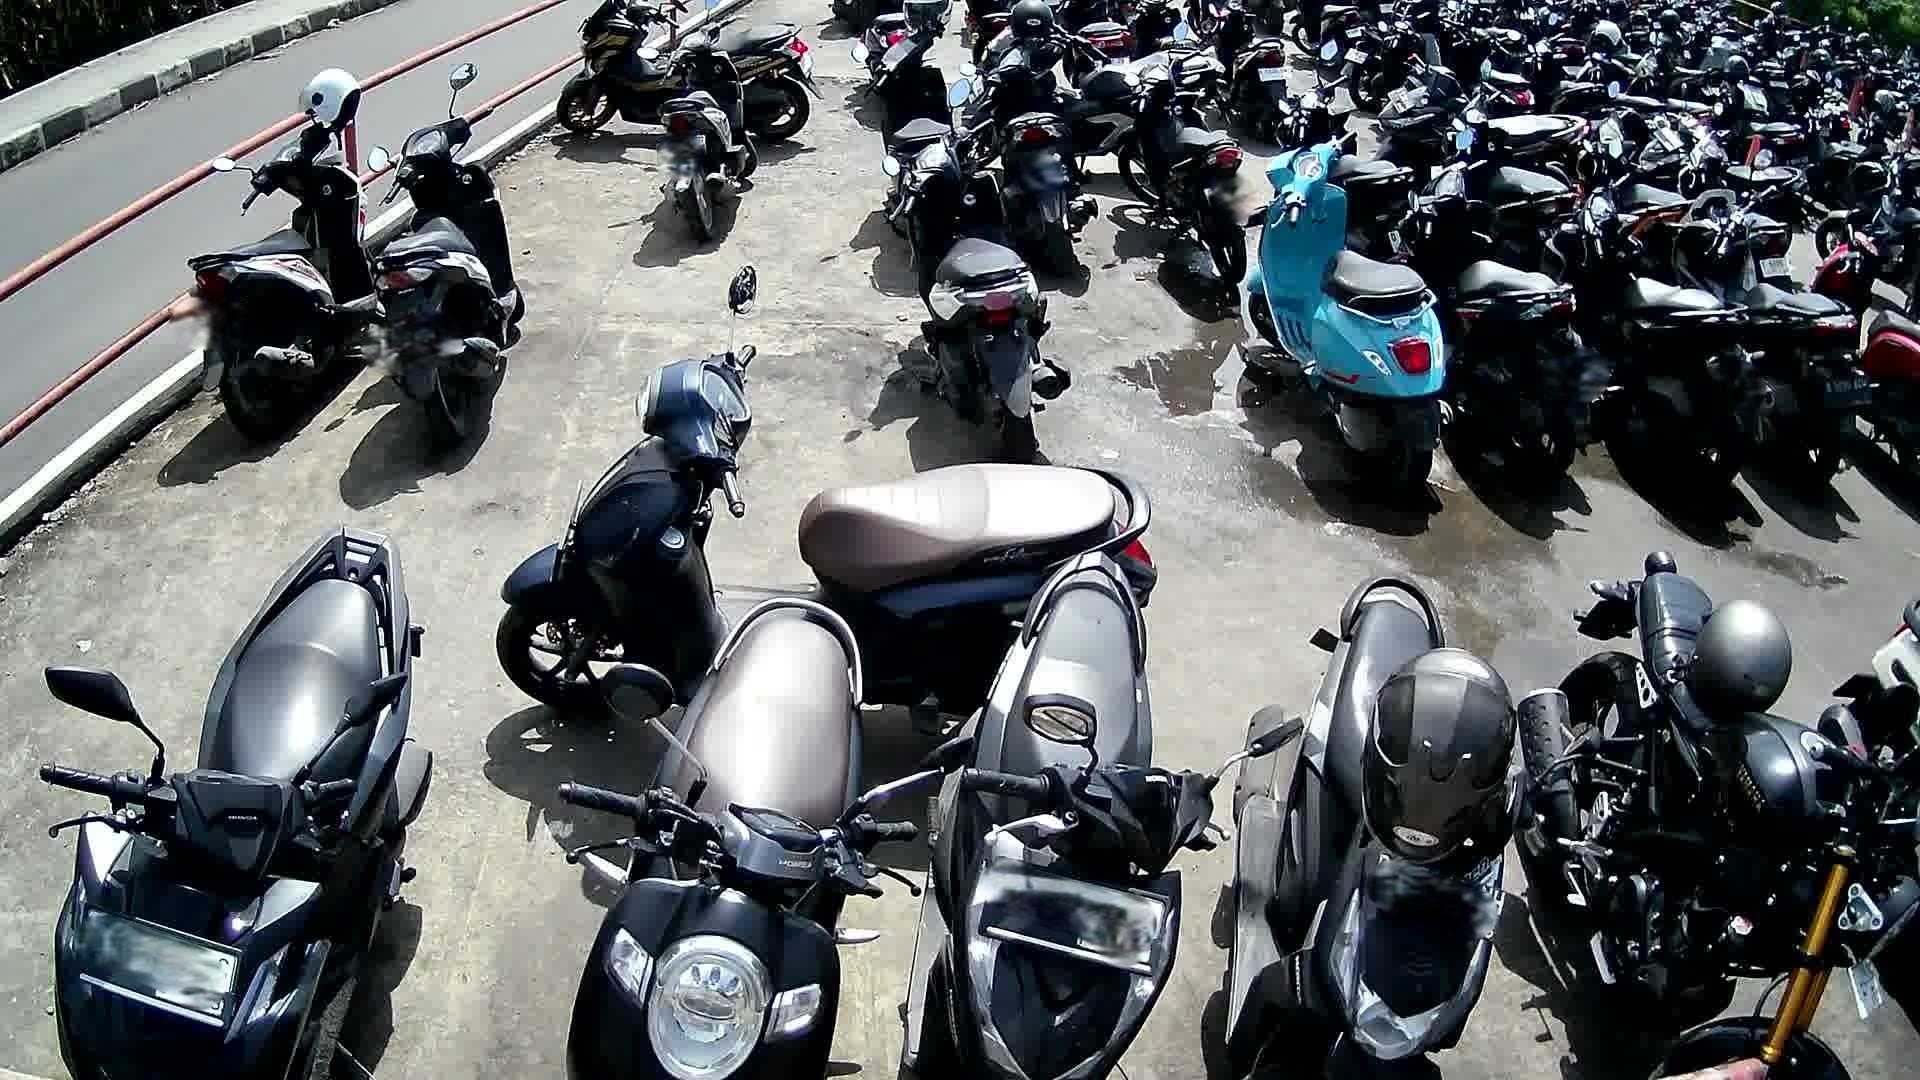motorcycle: (493, 264, 1159, 719), (37, 526, 434, 1080), (1516, 549, 1920, 1079), (901, 554, 1261, 1080), (558, 599, 932, 1080), (1221, 572, 1544, 1080), (1244, 133, 1455, 509), (1387, 131, 1605, 492), (1540, 175, 1778, 500), (882, 80, 1075, 452), (1665, 189, 1880, 493), (365, 65, 529, 447), (185, 121, 376, 442), (1811, 223, 1920, 480)
